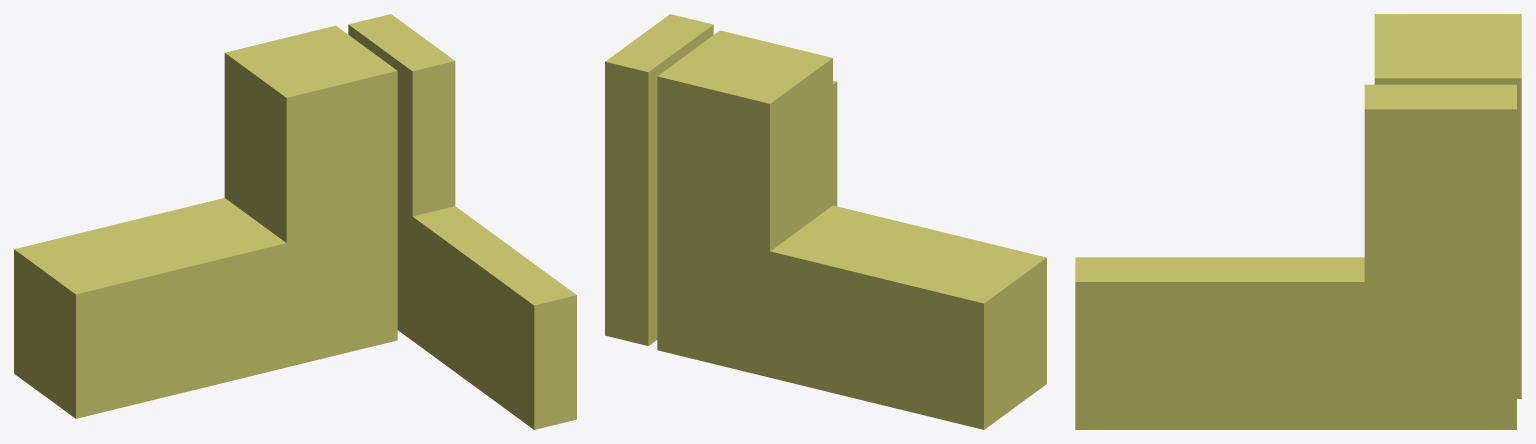
The model's file is blockout_Corner_Box.fbx.
3 views of the same model, side by side, from view 1: azimuth 30°, elevation 25°; view 2: azimuth 150°, elevation 25°; view 3: azimuth 270°, elevation 25° (orthographic). The views are drawn at different scales.
Parts seen in each view (by area): view 1: blockout_Corner_Box; view 2: blockout_Corner_Box; view 3: blockout_Corner_Box.
Boxes of the visible parts, x1,y1,x2,y2 form: blockout_Corner_Box: [14, 14, 576, 429]; blockout_Corner_Box: [605, 14, 1046, 429]; blockout_Corner_Box: [1075, 14, 1521, 429].
Bounding box in the file's own units: 108 × 74.22 × 93.68.
Materials: 1 (1 with a texture image).
